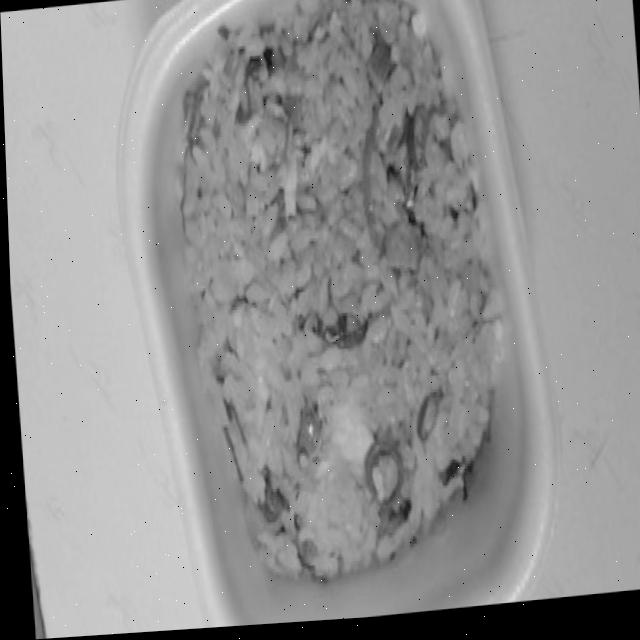米饭主食: (105, 0, 575, 634)
